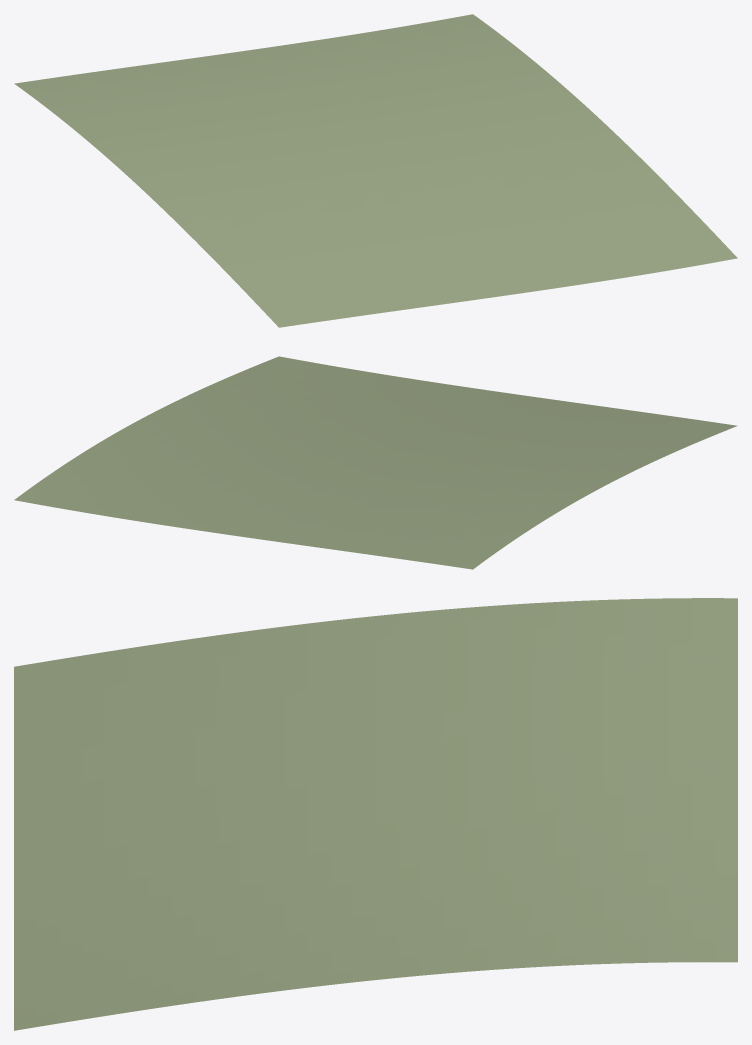
The model's file is valley-3-15.glb.
3 renders of one model, top to bottom at view 1: azimuth 30°, elevation 25°; view 2: azimuth 150°, elevation 25°; view 3: azimuth 270°, elevation 25°, orthographic. The views are drawn at different scales.
Visible parts, largest first — view 1: valley-3-15; view 2: valley-3-15; view 3: valley-3-15.
Boxes of the visible parts, left/top/right/bottom form: valley-3-15: left=14, top=14, right=737, bottom=327; valley-3-15: left=14, top=356, right=737, bottom=569; valley-3-15: left=14, top=598, right=737, bottom=1030.
Size of the model in its own units: 256 by 49.47 by 256.
